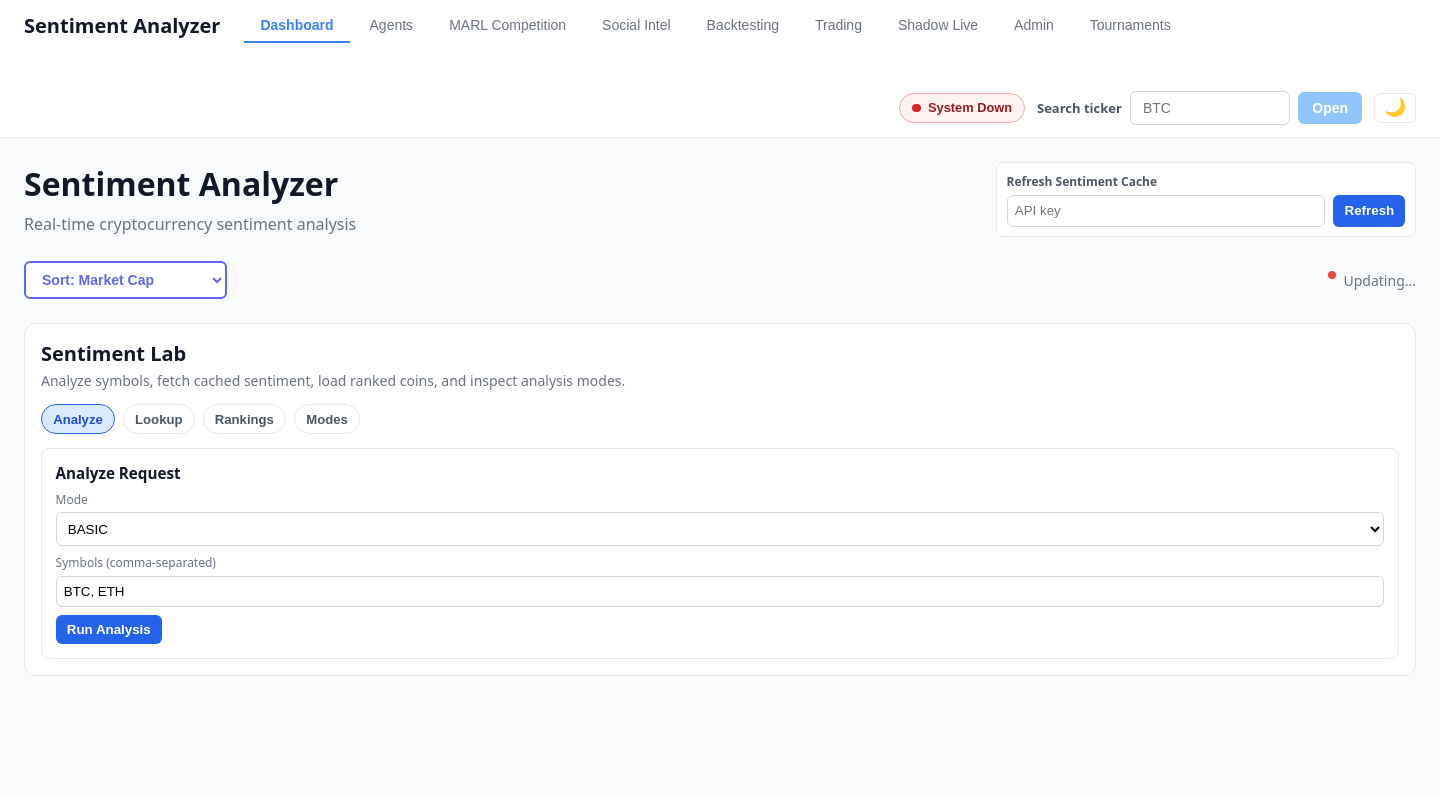
Test: AgentManagementDashboard — Issue 6 tournament detail enhancements › shows positive fitness trend badge for generation 2 relative to generation 1 (AC5)
What coordinates should you click on to do the following:
click the button "Agents"
I would click on:
 (391, 26)
Its box is [354,8,429,42].
(page scrolled)
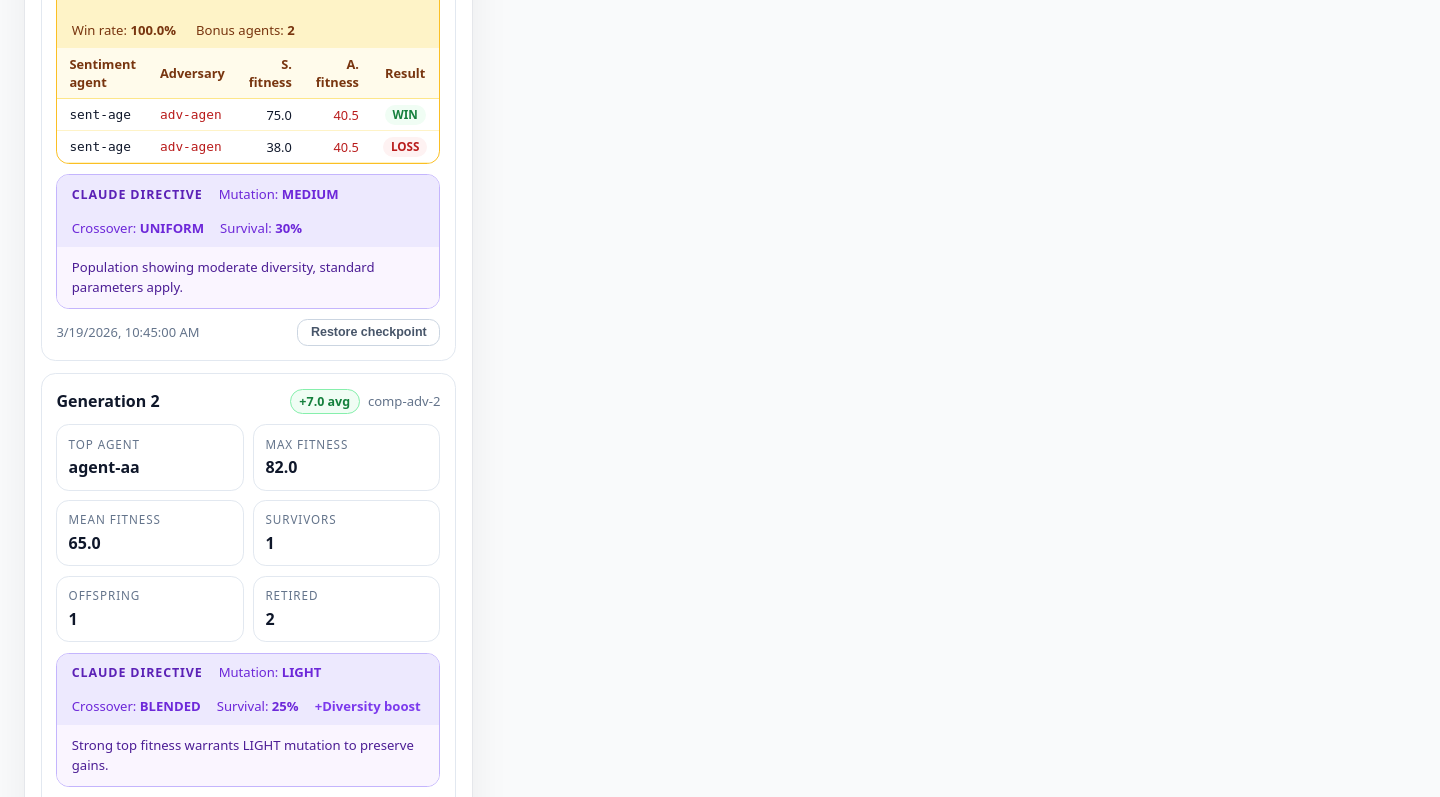
Expected: the text "comp-adv-2" is shown, [368,392,440,410]
Expected: the text "+7.0 avg" is shown, [290,389,360,414]
